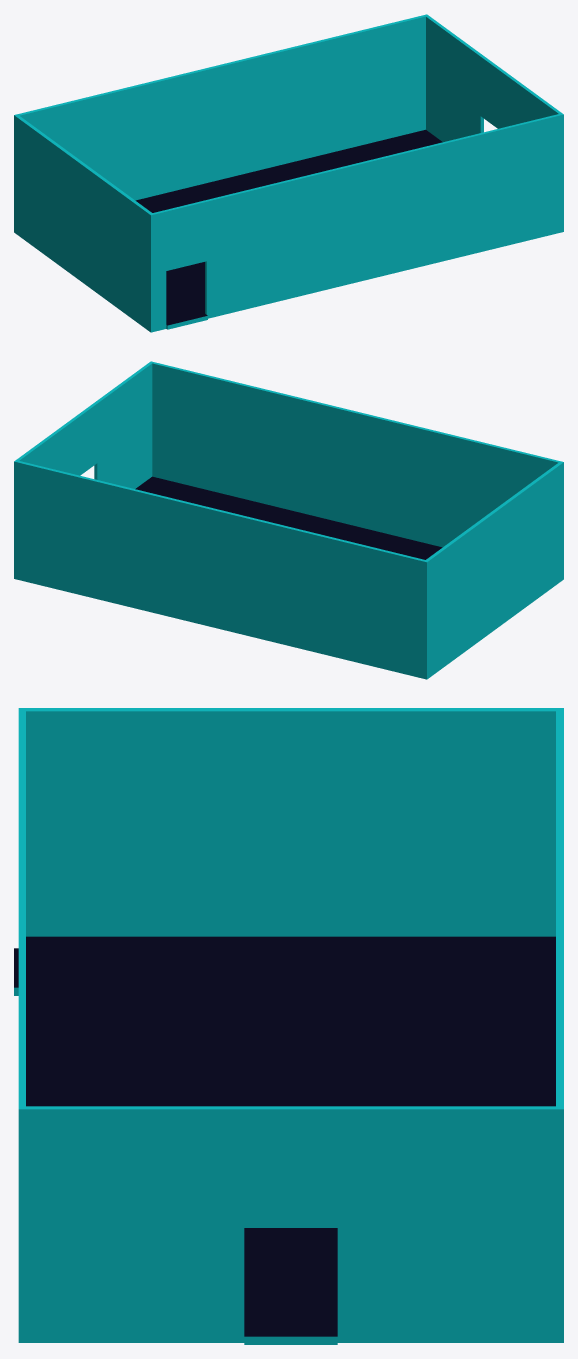
The model's file is Level_02.obj.
3 renders of one model, top to bottom at view 1: azimuth 30°, elevation 25°; view 2: azimuth 150°, elevation 25°; view 3: azimuth 270°, elevation 25°, orthographic. The views are drawn at different scales.
Parts seen in each view (by area): view 1: Level_02; view 2: Level_02; view 3: Level_02.
Boxes of the visible parts, box(x1,y1,x2,y2) form: Level_02: box(14, 14, 563, 332); Level_02: box(14, 361, 563, 679); Level_02: box(14, 708, 563, 1344).
Bounding box in the file's own units: 24.12 × 6.52 × 13.9.
